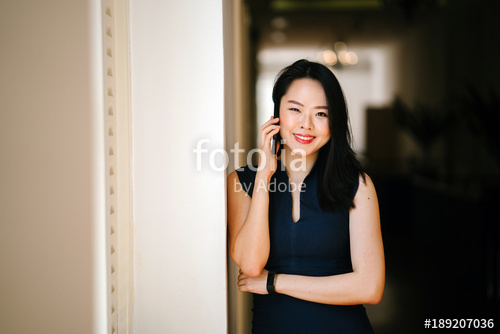phone: (262, 112, 285, 159)
talk: (257, 99, 337, 166)
